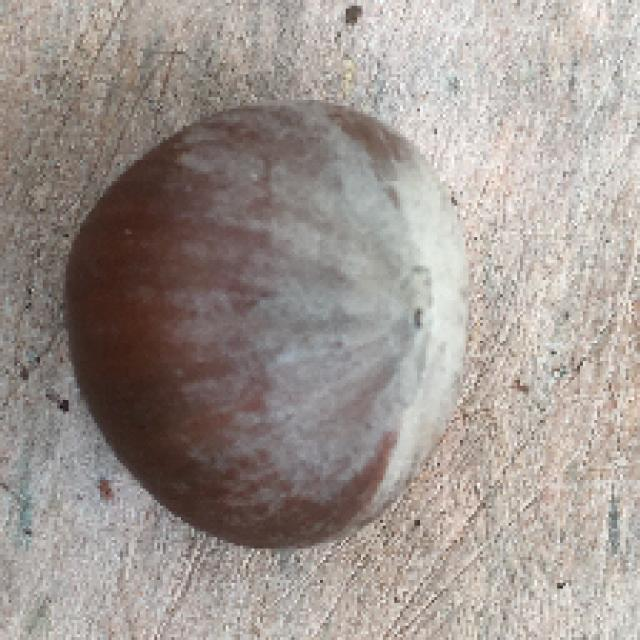damagedHazelnut: (60, 98, 484, 553)
